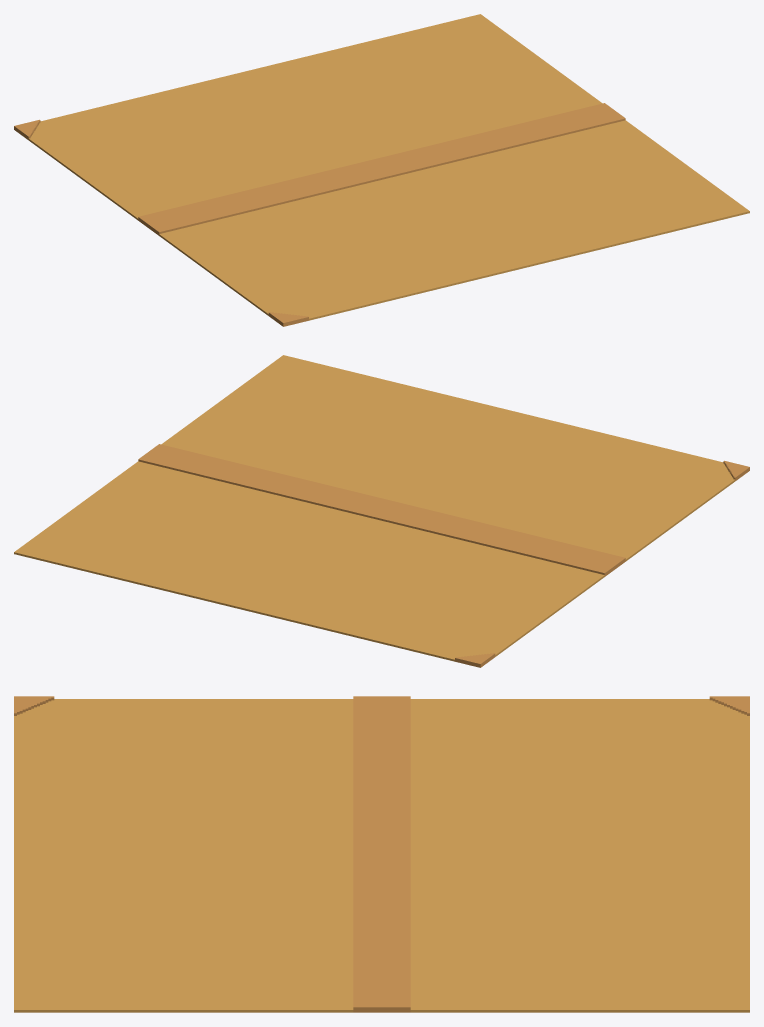
The model's file is shadow-4.obj.
3 renders of one model, top to bottom at view 1: azimuth 30°, elevation 25°; view 2: azimuth 150°, elevation 25°; view 3: azimuth 270°, elevation 25°, orthographic. The views are drawn at different scales.
Size of the model in its own units: 25.6 by 0.2 by 25.6.
1 material, 1 textured.
